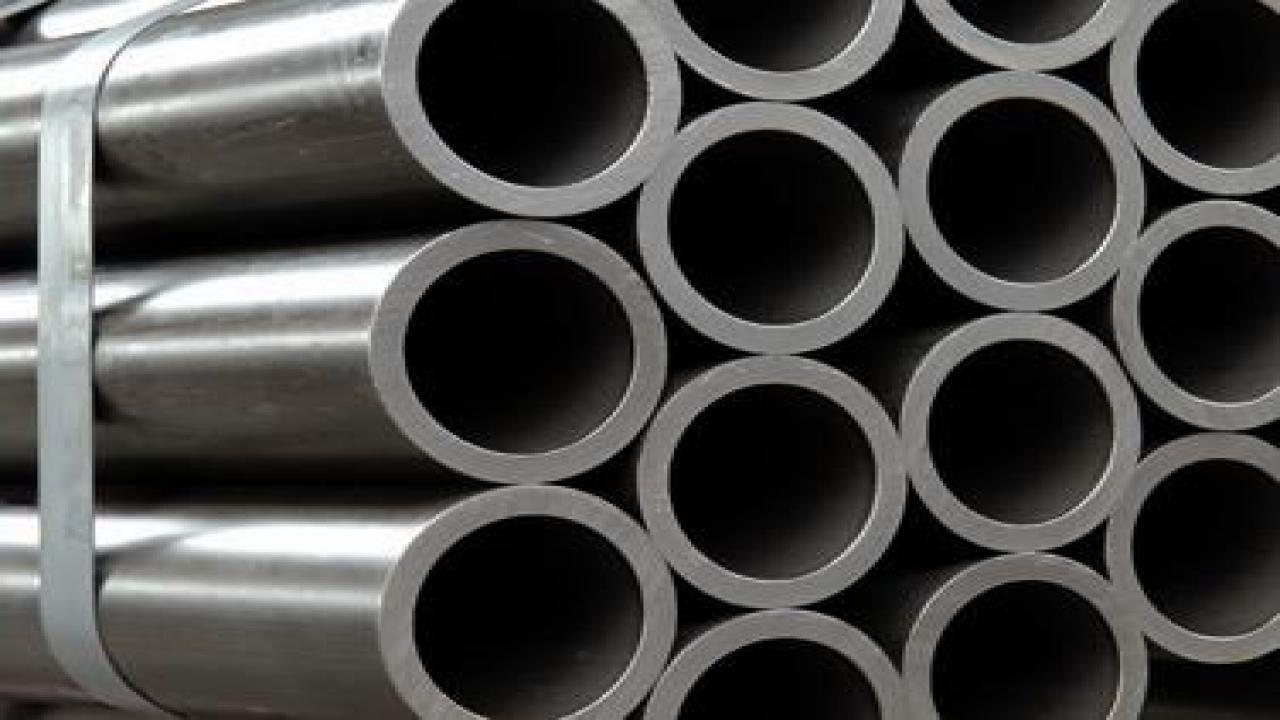pipe: (330, 209, 674, 492), (358, 476, 685, 718), (626, 346, 909, 611), (623, 89, 902, 356), (354, 0, 681, 219), (892, 64, 1148, 314), (892, 303, 1144, 555), (1096, 420, 1277, 664), (902, 547, 1154, 718), (1110, 196, 1277, 430), (627, 598, 906, 718), (1107, 0, 1277, 196), (643, 0, 908, 104), (903, 0, 1127, 74)
